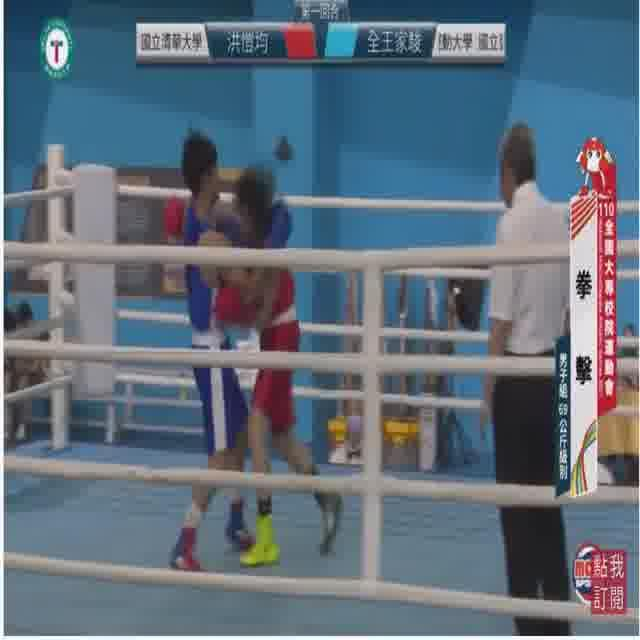blue-player: (169, 131, 293, 568)
red-player: (160, 166, 346, 570)
referee: (478, 117, 580, 637)
